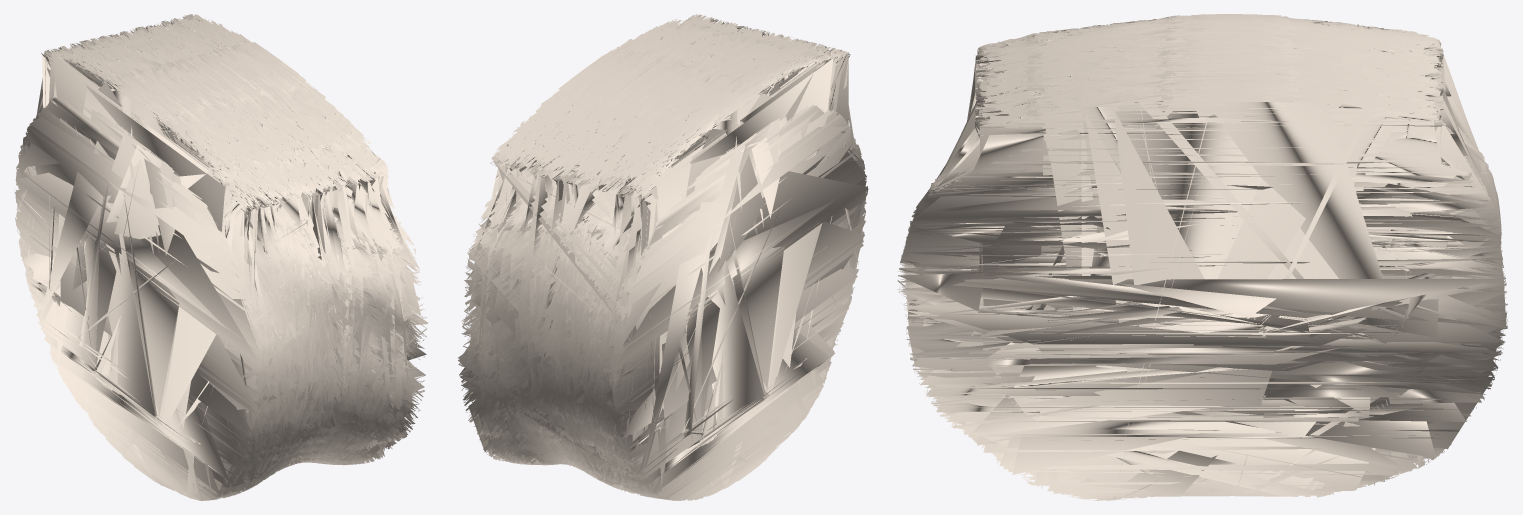
The model's file is body.glb.
3 views of the same model, side by side, from view 1: azimuth 30°, elevation 25°; view 2: azimuth 150°, elevation 25°; view 3: azimuth 270°, elevation 25° (orthographic). The views are drawn at different scales.
Bounding box in the file's own units: 116 × 261 × 342.
